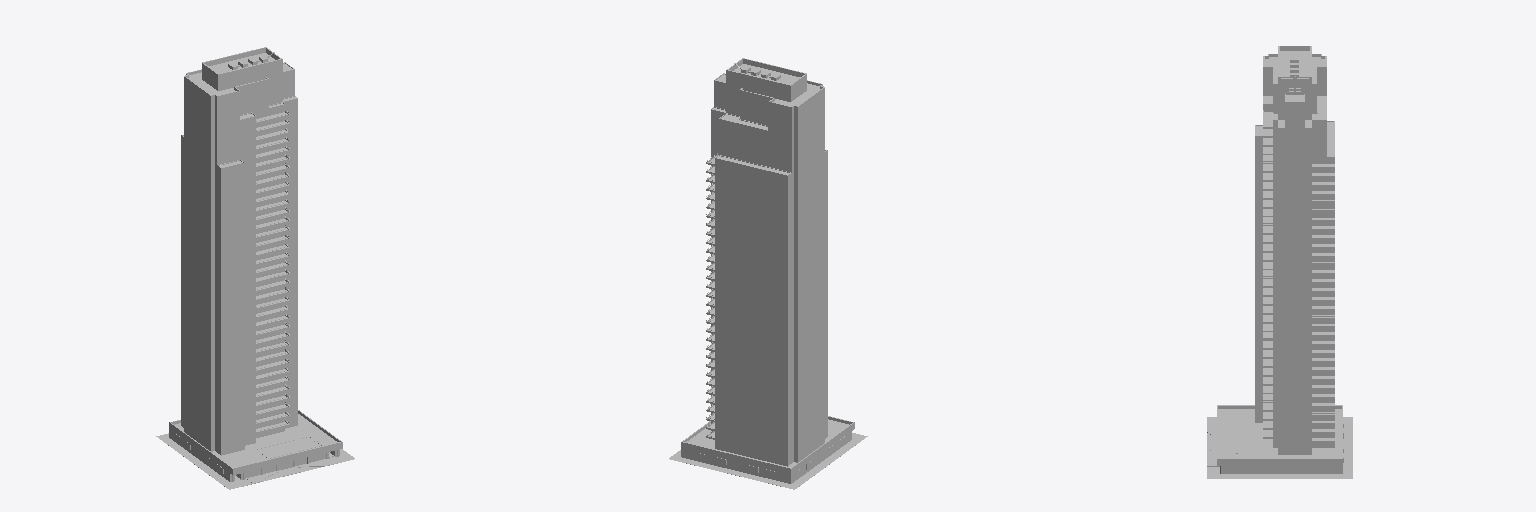
File: high-rise.obj
3 views of the same model, side by side, from view 1: azimuth 30°, elevation 25°; view 2: azimuth 150°, elevation 25°; view 3: azimuth 270°, elevation 25° (orthographic).
Parts seen in each view (by area): view 1: hirise2_hirise2_0; view 2: hirise2_hirise2_0; view 3: hirise2_hirise2_0.
Part boxes in pixels (left/top/right/bottom): hirise2_hirise2_0: left=156, top=47, right=354, bottom=489; hirise2_hirise2_0: left=669, top=58, right=867, bottom=489; hirise2_hirise2_0: left=1207, top=46, right=1352, bottom=478.
Bounding box in the file's own units: 55.8 × 161 × 55.8.